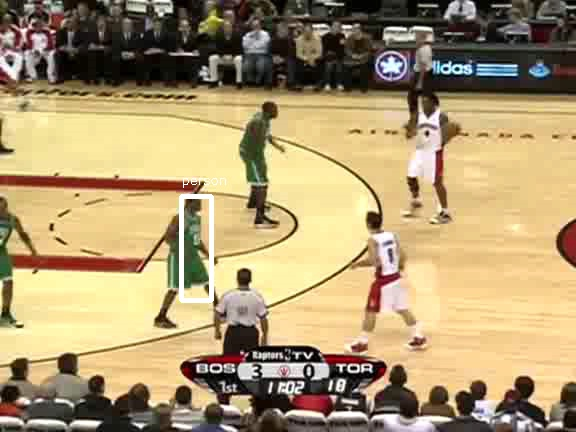person: (173, 212, 207, 293), (172, 212, 206, 293), (174, 212, 208, 293), (173, 211, 207, 292), (173, 213, 207, 294)
target_negative: (14, 172, 477, 397), (206, 408, 541, 421), (535, 102, 565, 201), (316, 198, 327, 399), (214, 1, 228, 147), (566, 144, 568, 258)
